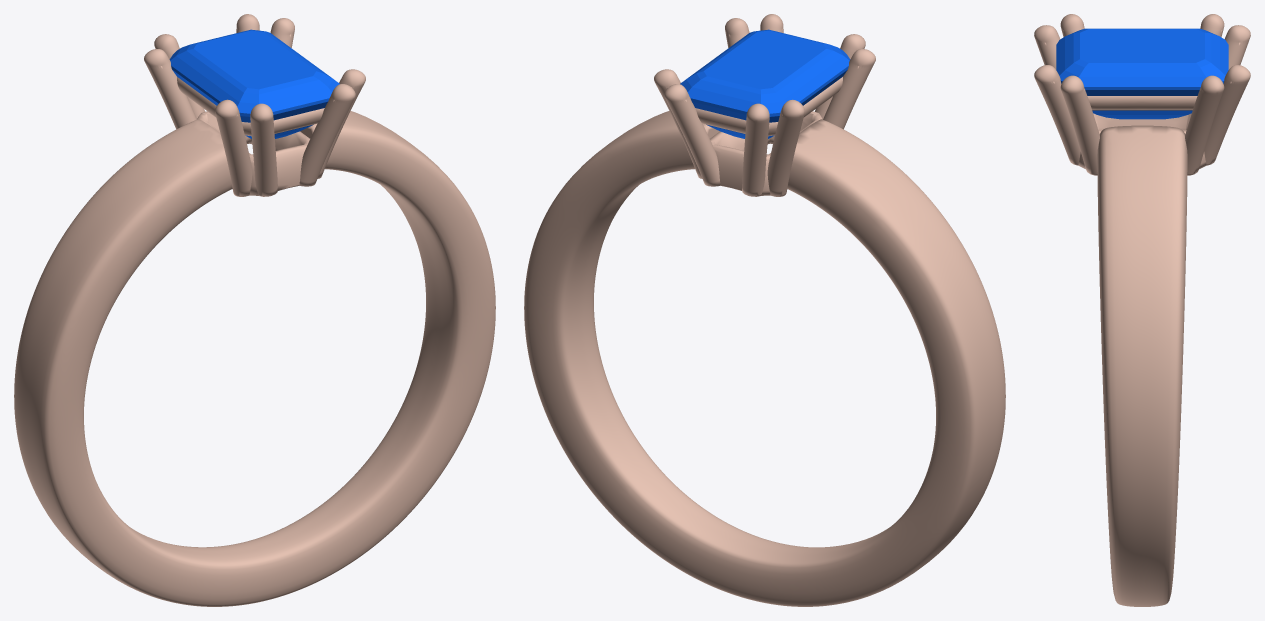
The model's file is bluesapphire-emerald-rosegold-8prong-straighttaperedband-solitaire.glb.
3 views of the same model, side by side, from view 1: azimuth 30°, elevation 25°; view 2: azimuth 150°, elevation 25°; view 3: azimuth 270°, elevation 25° (orthographic).
Visible parts, largest first — view 1: metal.002, stone; view 2: metal.002, stone; view 3: metal.002, stone.
Boxes of the visible parts, x1=… form: metal.002: x1=14, y1=14, x2=495, y2=606; stone: x1=169, y1=29, x2=339, y2=138; metal.002: x1=524, y1=14, x2=1005, y2=606; stone: x1=680, y1=29, x2=850, y2=138; metal.002: x1=1034, y1=14, x2=1250, y2=606; stone: x1=1056, y1=28, x2=1228, y2=119.
Size of the model in its own units: 20.49 by 22.95 by 8.4.
